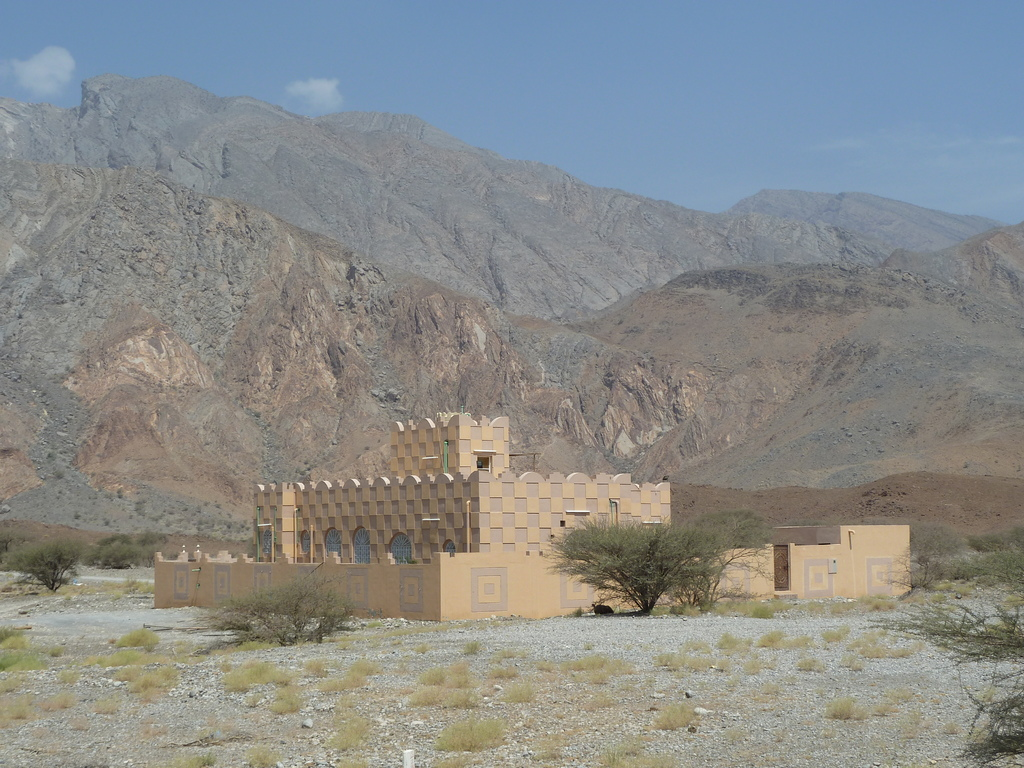Tree: (539, 510, 760, 614)
